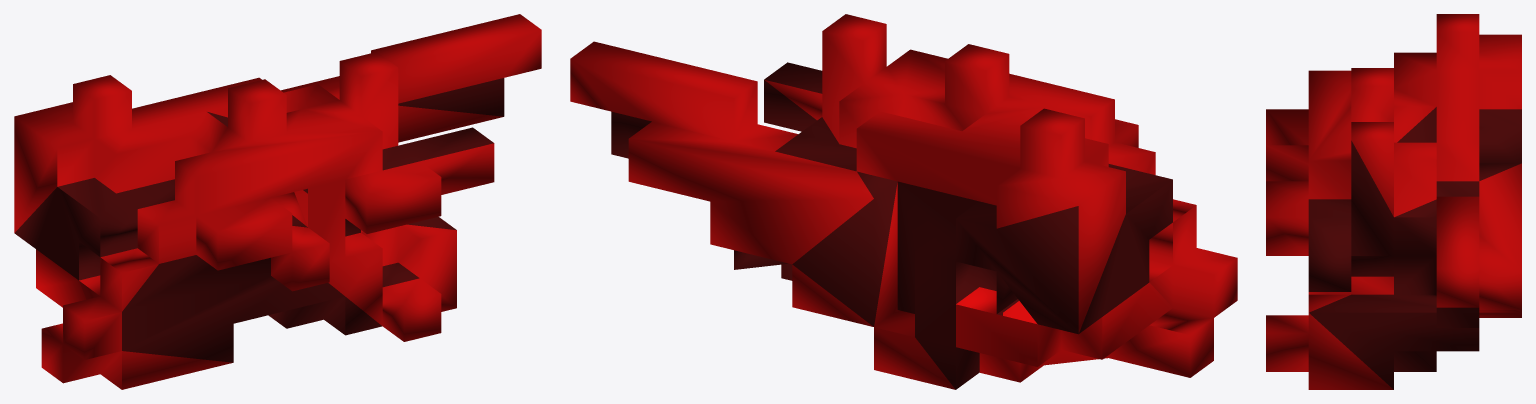
Rendered from Piec of Zombie.FBX.
3 views of the same model, side by side, from view 1: azimuth 30°, elevation 25°; view 2: azimuth 150°, elevation 25°; view 3: azimuth 270°, elevation 25° (orthographic). The views are drawn at different scales.
Visible parts, largest first — view 1: default; view 2: default; view 3: default.
Part boxes in pixels (x1,y1,x2,y2): default: (14, 14, 541, 389); default: (570, 14, 1237, 389); default: (1266, 14, 1521, 389).
Size of the model in its own units: 14 by 6 by 6.
1 material, 1 textured.
